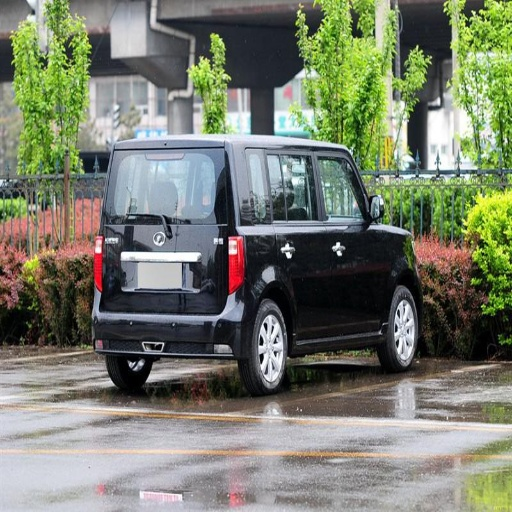back_bumper: (93, 292, 253, 352)
back_right_door: (281, 150, 343, 338)
trunk: (97, 218, 224, 328), (233, 226, 292, 302)
